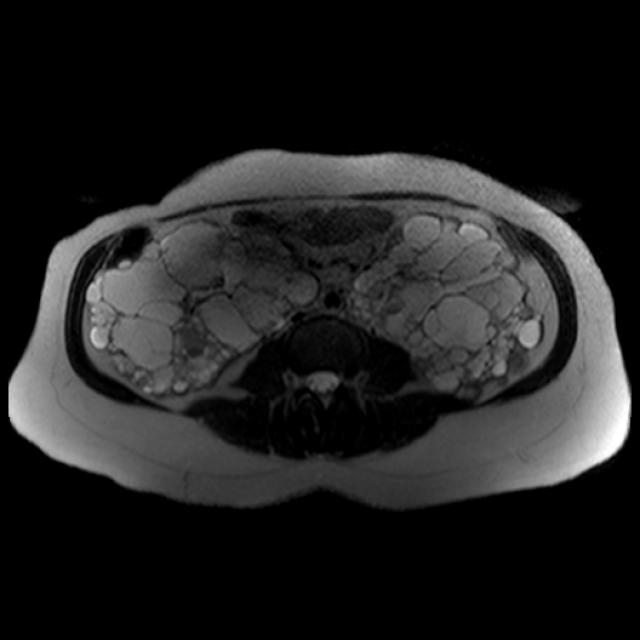sag: (83, 215, 321, 400)
sol: (343, 210, 546, 398)
